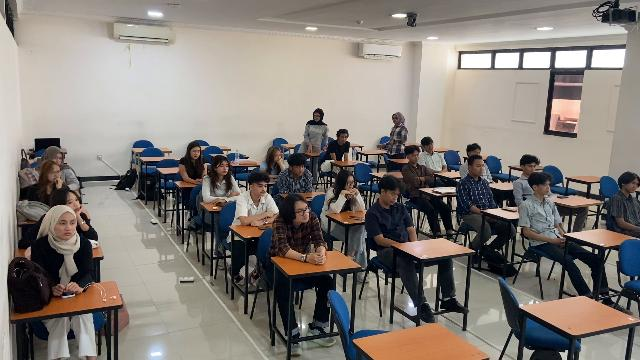fokus: (57, 216, 76, 239), (294, 203, 310, 223), (67, 194, 81, 214), (47, 166, 62, 183), (254, 180, 267, 196), (386, 189, 399, 205), (216, 161, 229, 174), (628, 179, 640, 193), (53, 151, 63, 166), (540, 181, 550, 196), (409, 150, 419, 164), (475, 162, 485, 176), (525, 162, 536, 174), (294, 163, 304, 176), (346, 177, 354, 192), (191, 147, 200, 159), (274, 151, 282, 163), (425, 143, 434, 152), (473, 148, 480, 157)
